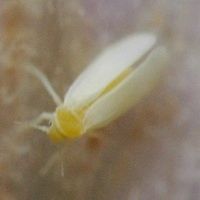insect: (35, 32, 168, 140)
